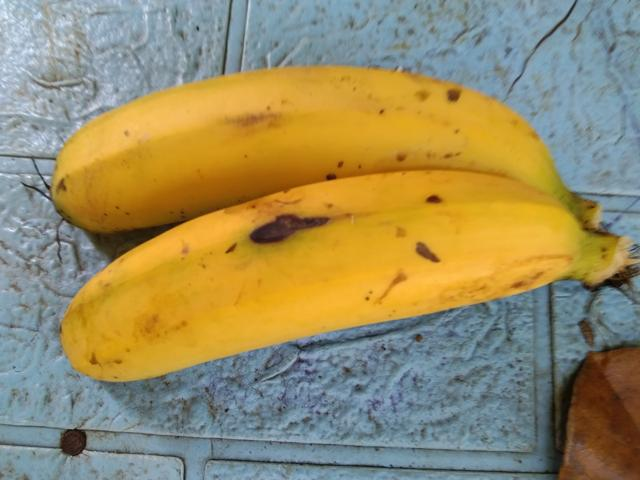freshripe: (42, 49, 533, 188)
ripe: (48, 159, 594, 424)
